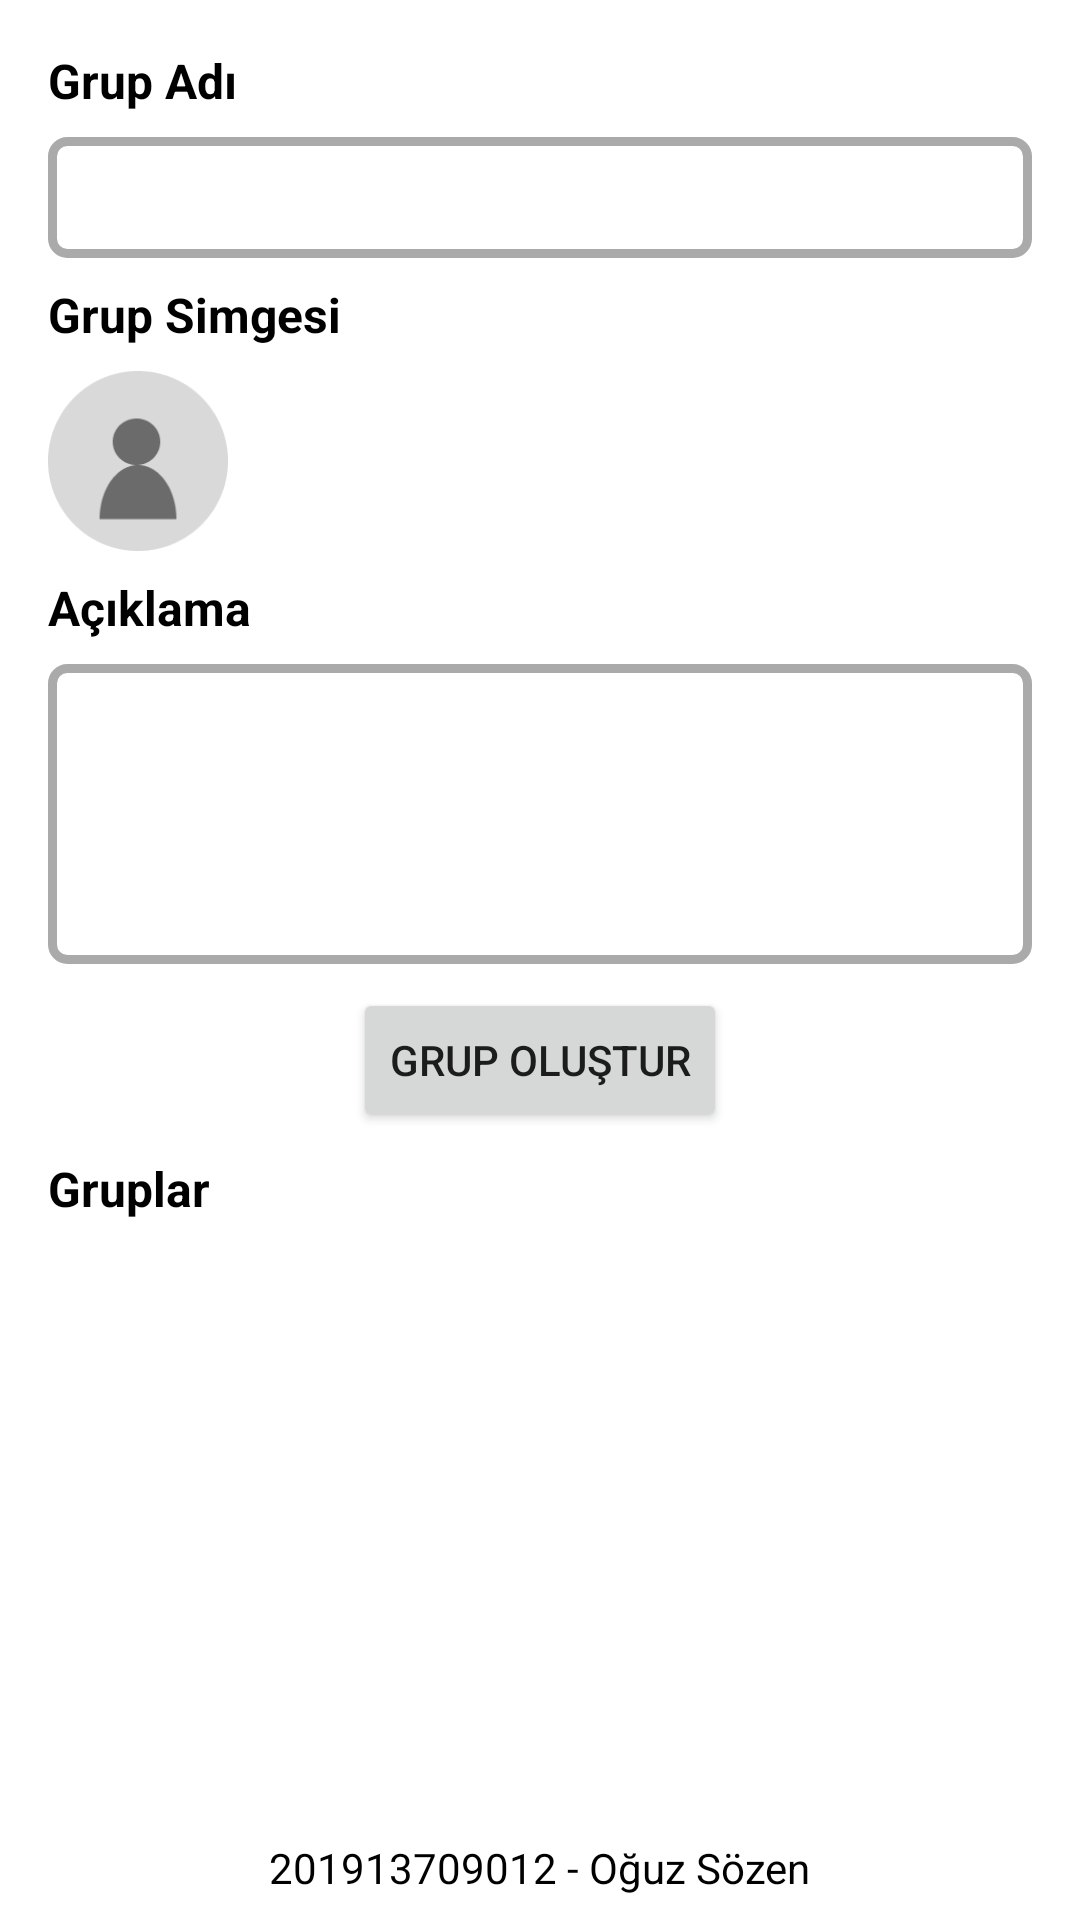

Icon bounding boxes for this 1080 × 1920 phone screenshot, format rect(x1, y1, x2, y2):
profil: rect(48, 371, 228, 551)
